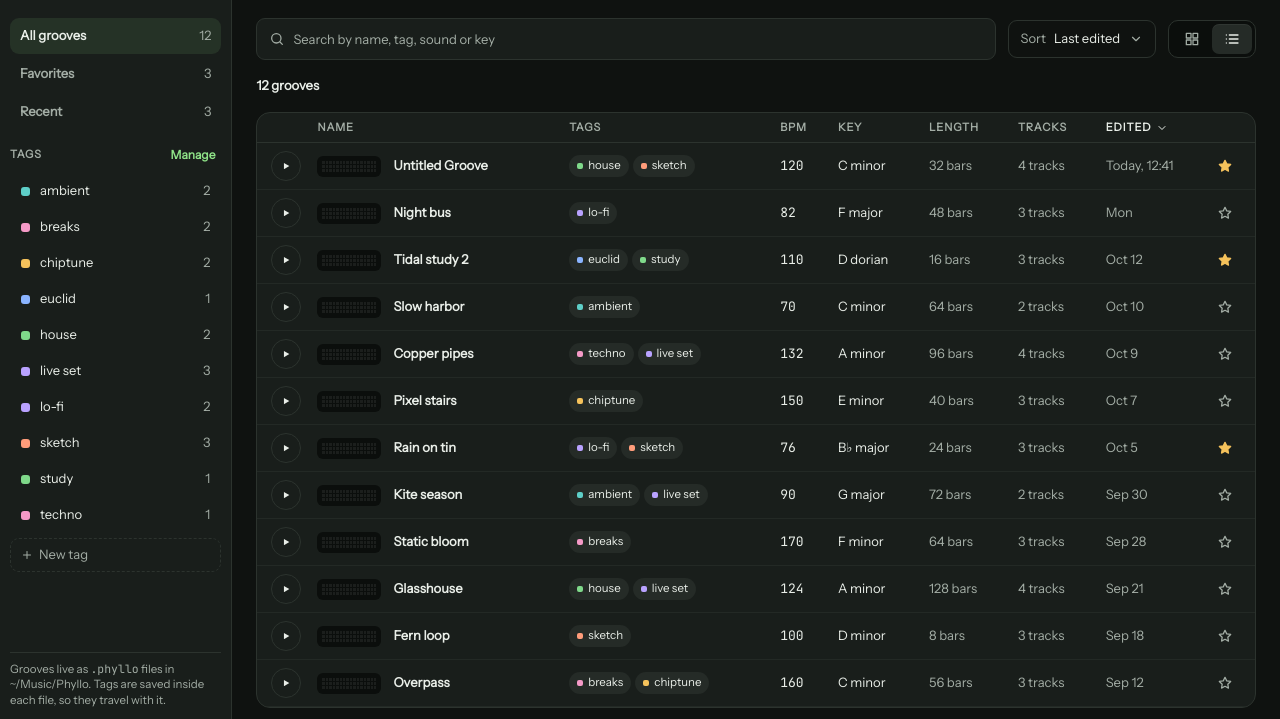
Test: GrooveBrowser › should select rows with the modifier keys and add a tag to all of them
Expected: the text "12 grooves" is shown, [256,77,319,95]
Type keys "{Meta>}"
Click the button "Night bus" at {"x": 384, "y": 213}, box [317,203,451,224]
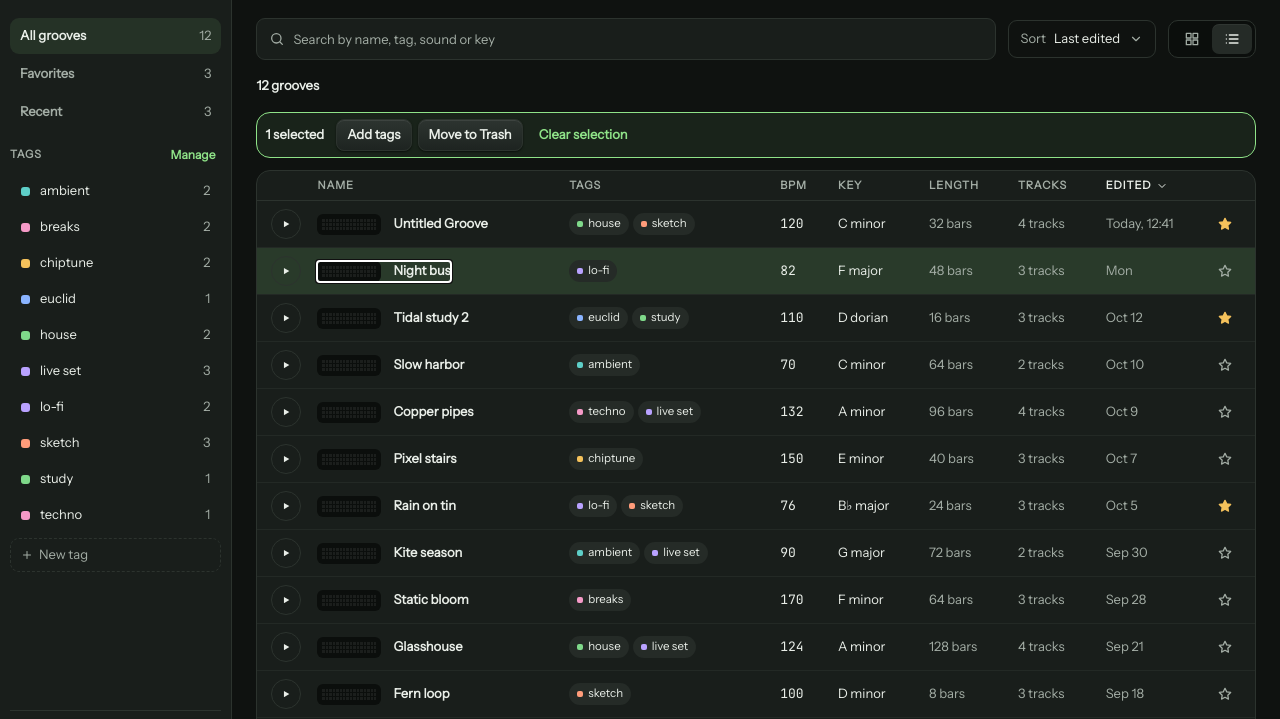
Click the button "Kite season" at {"x": 390, "y": 553}, box [317,543,462,564]
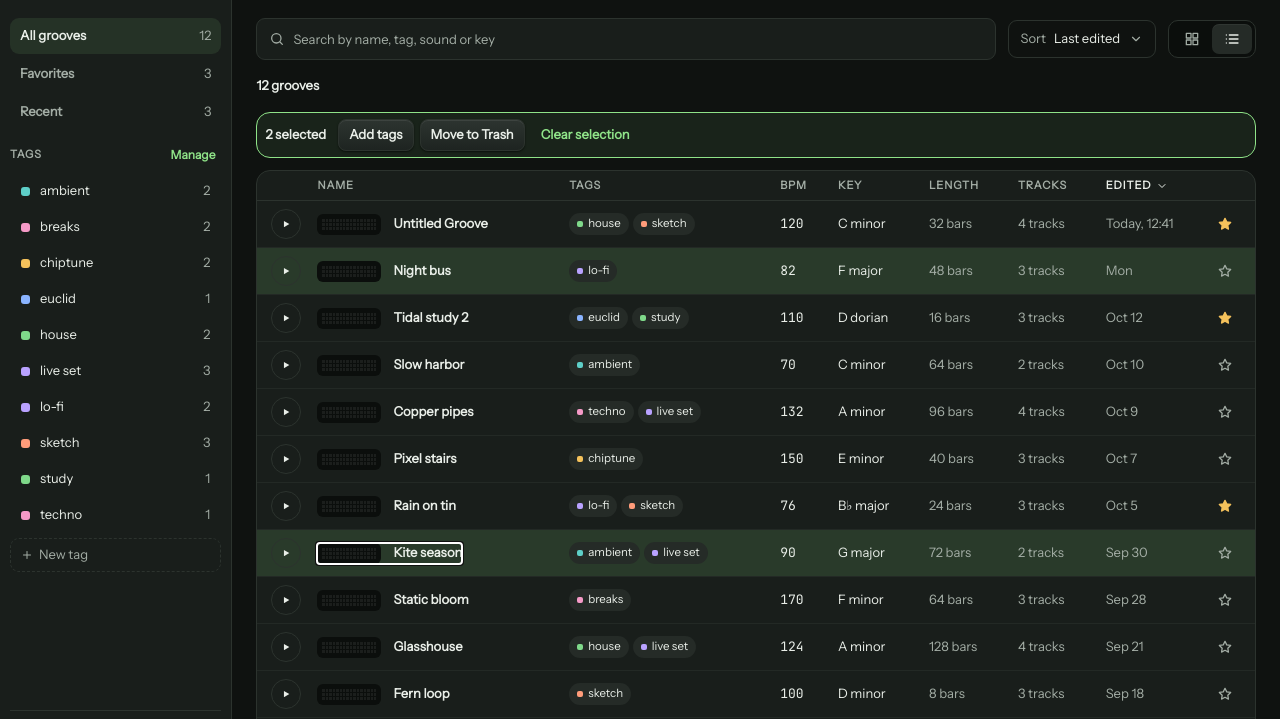
Type keys "{/Meta}"
Result: the text "2 selected" is shown at [265,126,326,144]
Click the button "Add tags" at {"x": 376, "y": 135}, box [338,119,414,151]
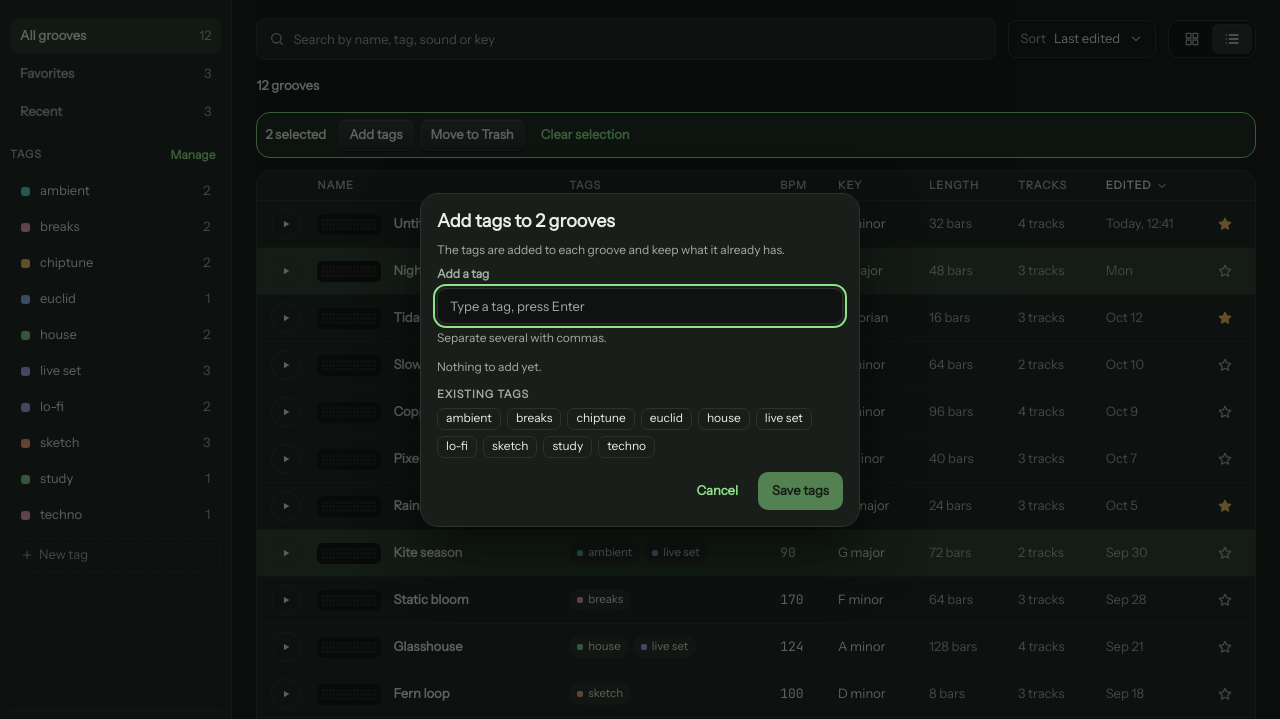
Type "road trip" into the field labelled "Add a tag" at {"x": 640, "y": 306}, box [450,289,830,323]
Then press Enter
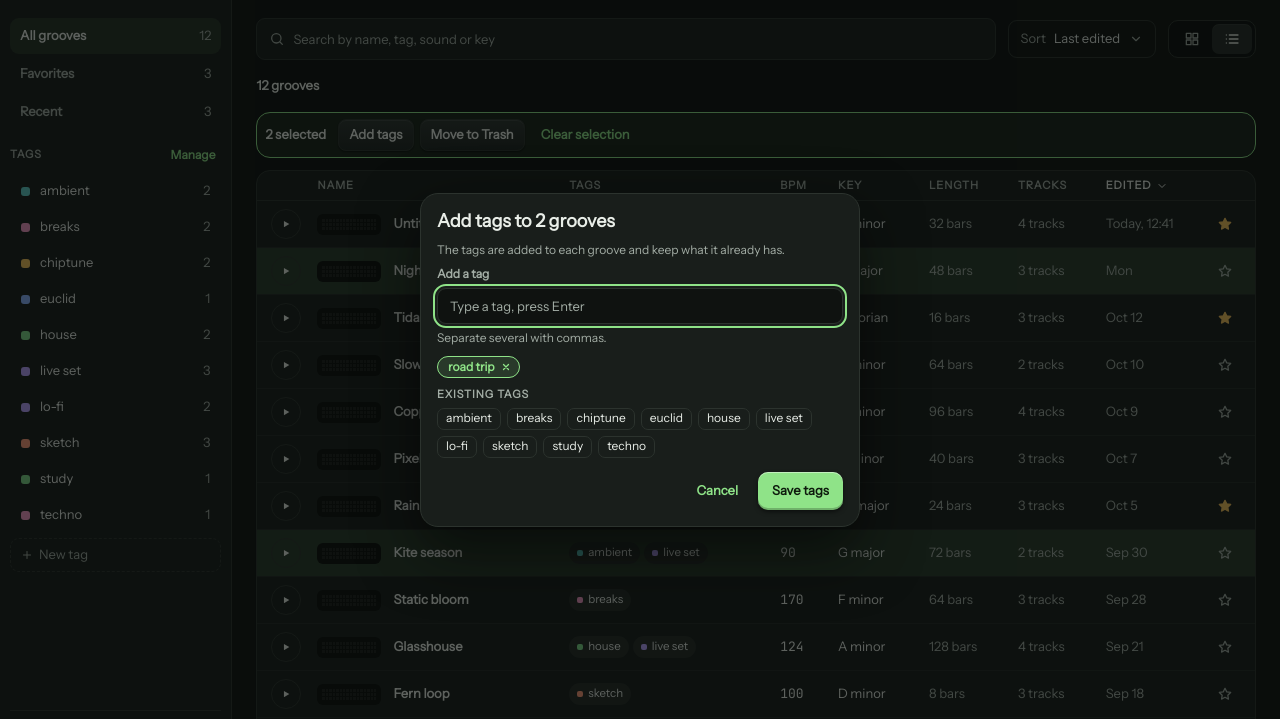
Click the button "Save tags" at {"x": 800, "y": 491}, box [758,472,843,510]
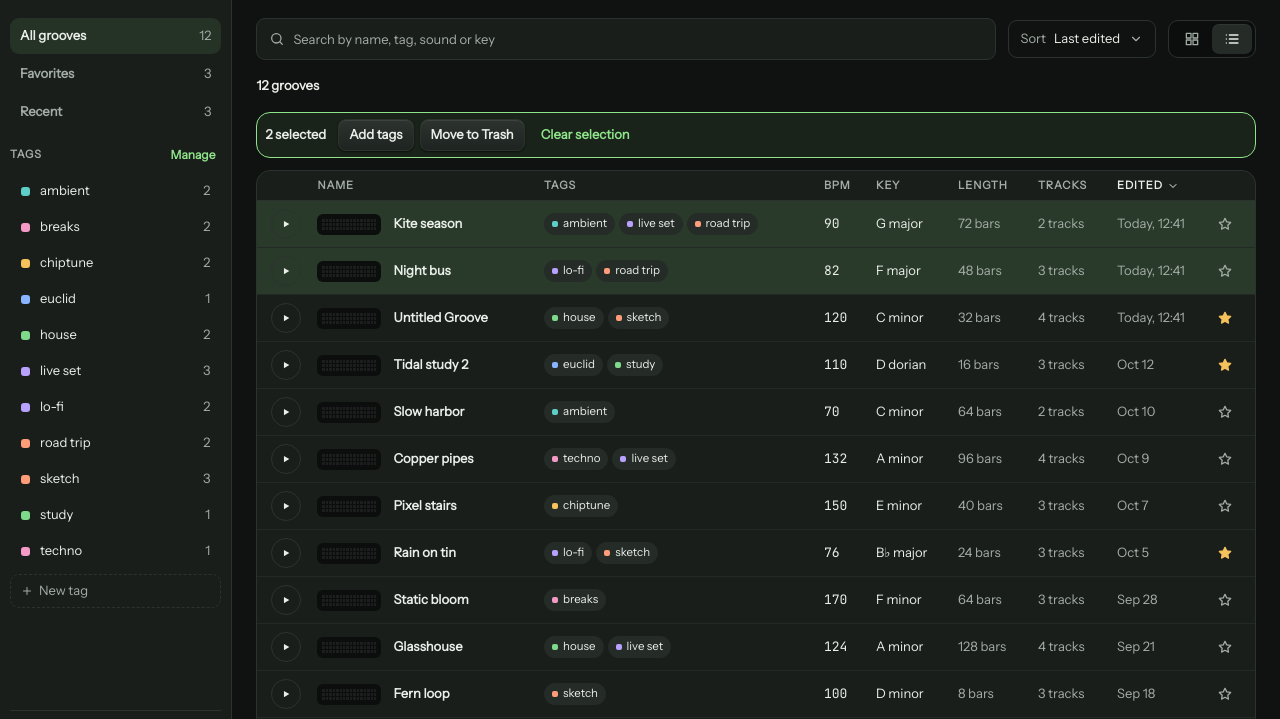
Result: the button named "road trip 2 grooves" is shown at [10,426,221,460]
